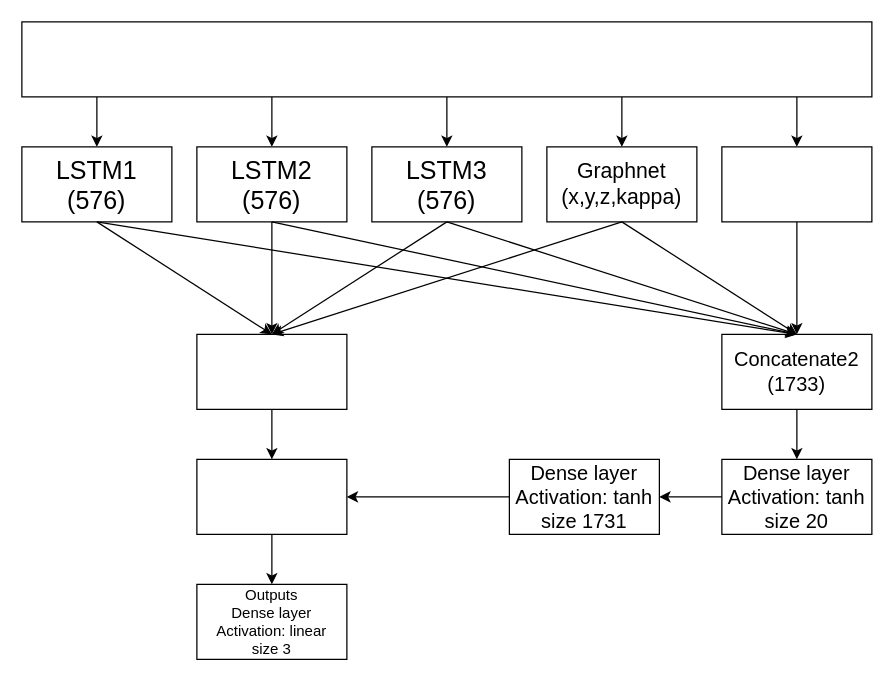
The diagram is 894 pixels wide and 681 high, and some of its shapes have lost their labels. The shapes that lost their labels are listed below. From the top down, each one's centre as x and y in pixels, then its label:
(x=446, y=59): Inputs
(x=796, y=184): Amount of pulses (1)
(x=271, y=371): Concatenate1 (1731)
(x=271, y=496): Product layer
